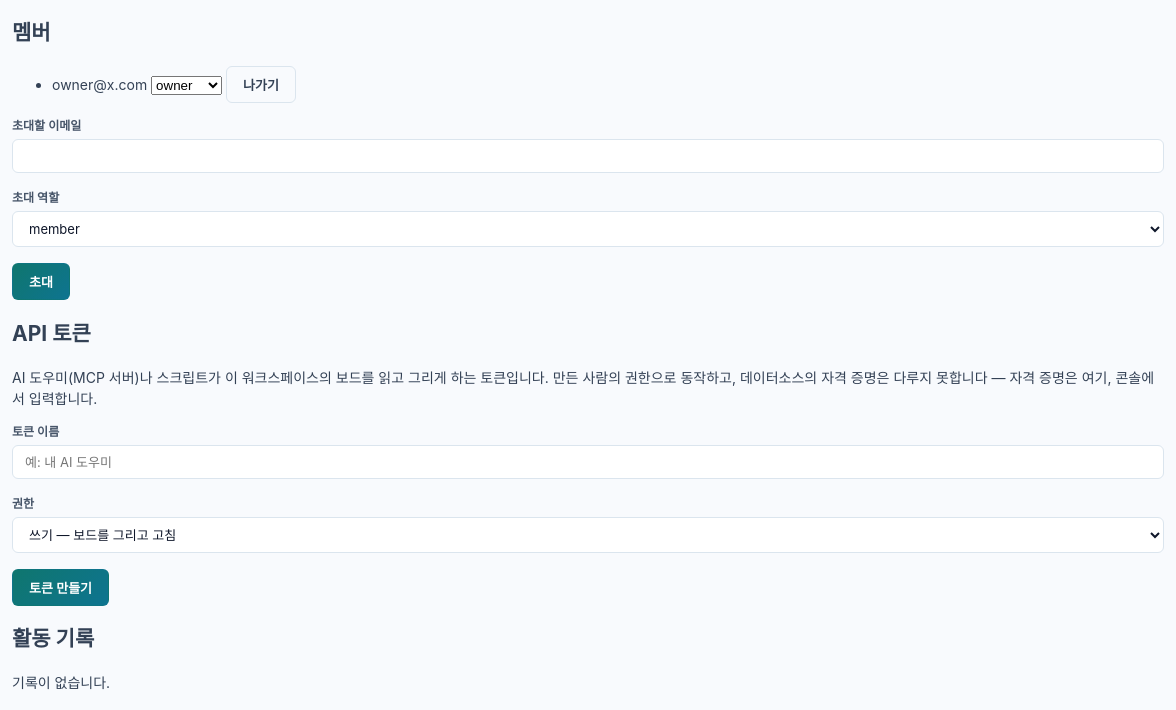
Test: SettingsPage › says the invitation was emailed when the server mailed it, with no link to pass on
In the field labelled "초대할 이메일": (588,156) [12, 139, 1164, 173], type "new@x.com"
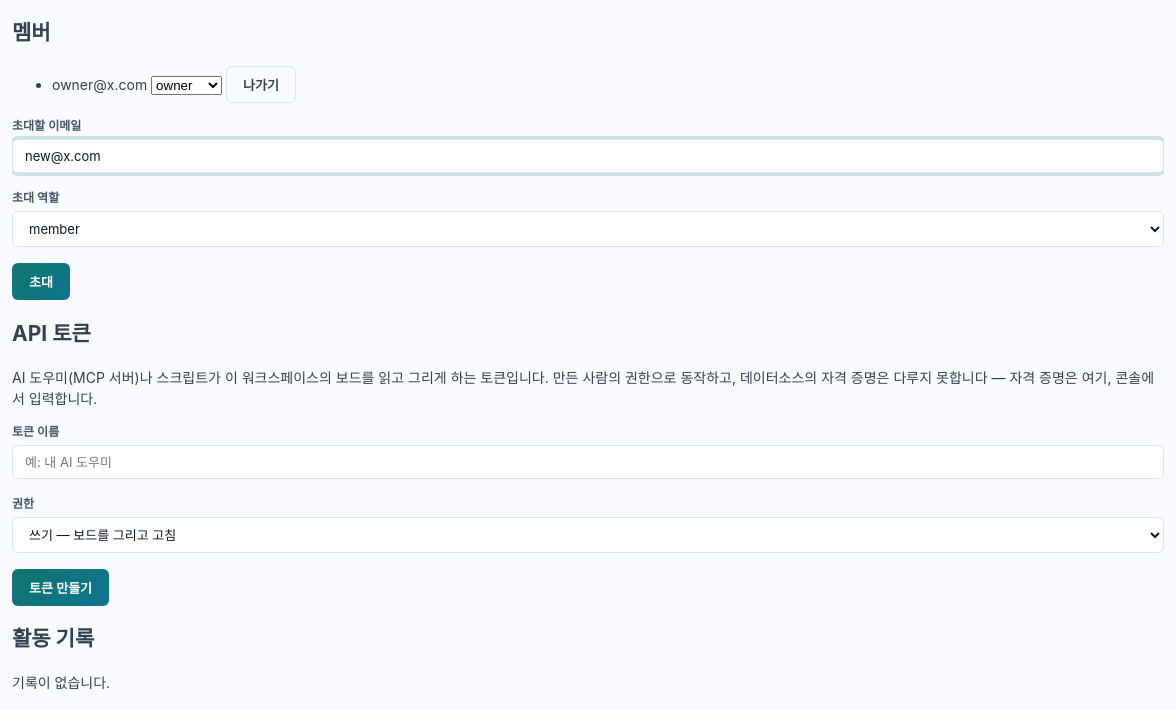
Click the button "초대": (41,282) [12, 263, 70, 300]
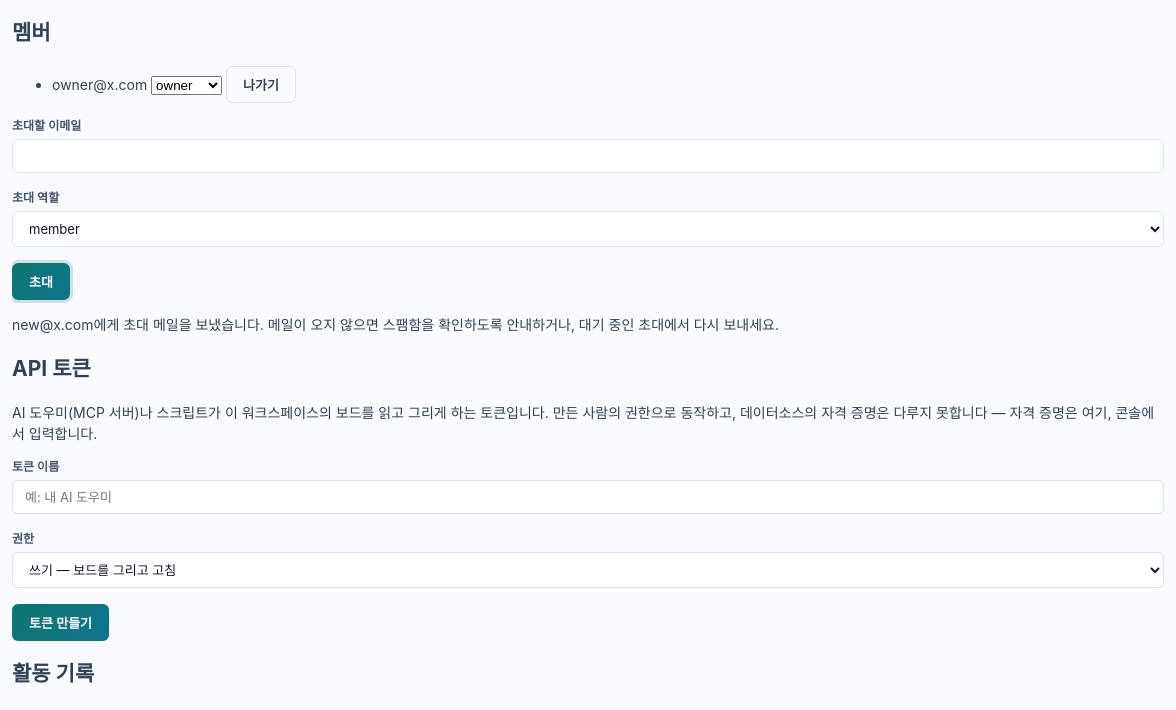
Check: the text "new@x.com에게 초대 메일을 보냈습니다. 메일이 오지 않으면 스팸함을 확인하도록 안내하거나, 대기 중인 초대에서 다시 보내세요." is shown, box [12, 316, 779, 333]
